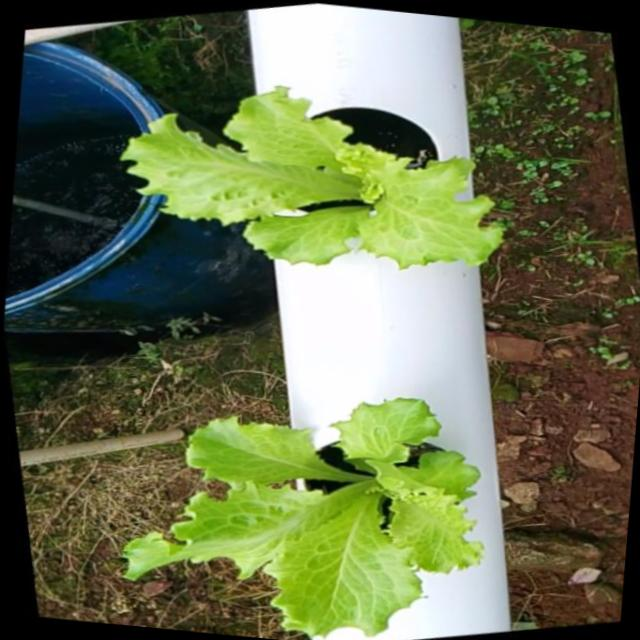Baby: (123, 398, 486, 639), (121, 81, 503, 263)
